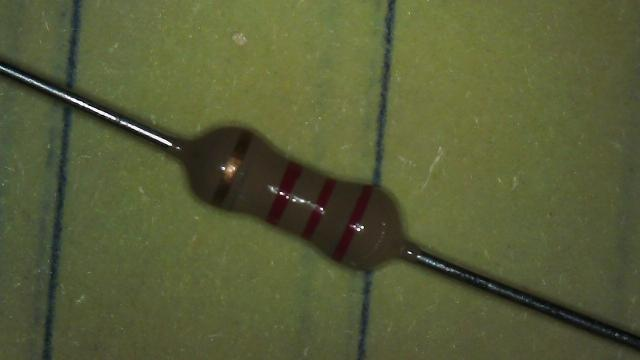gold: (212, 131, 252, 205)
red: (332, 185, 372, 262), (266, 162, 302, 225), (300, 182, 337, 237)
resistor: (161, 92, 425, 300)
